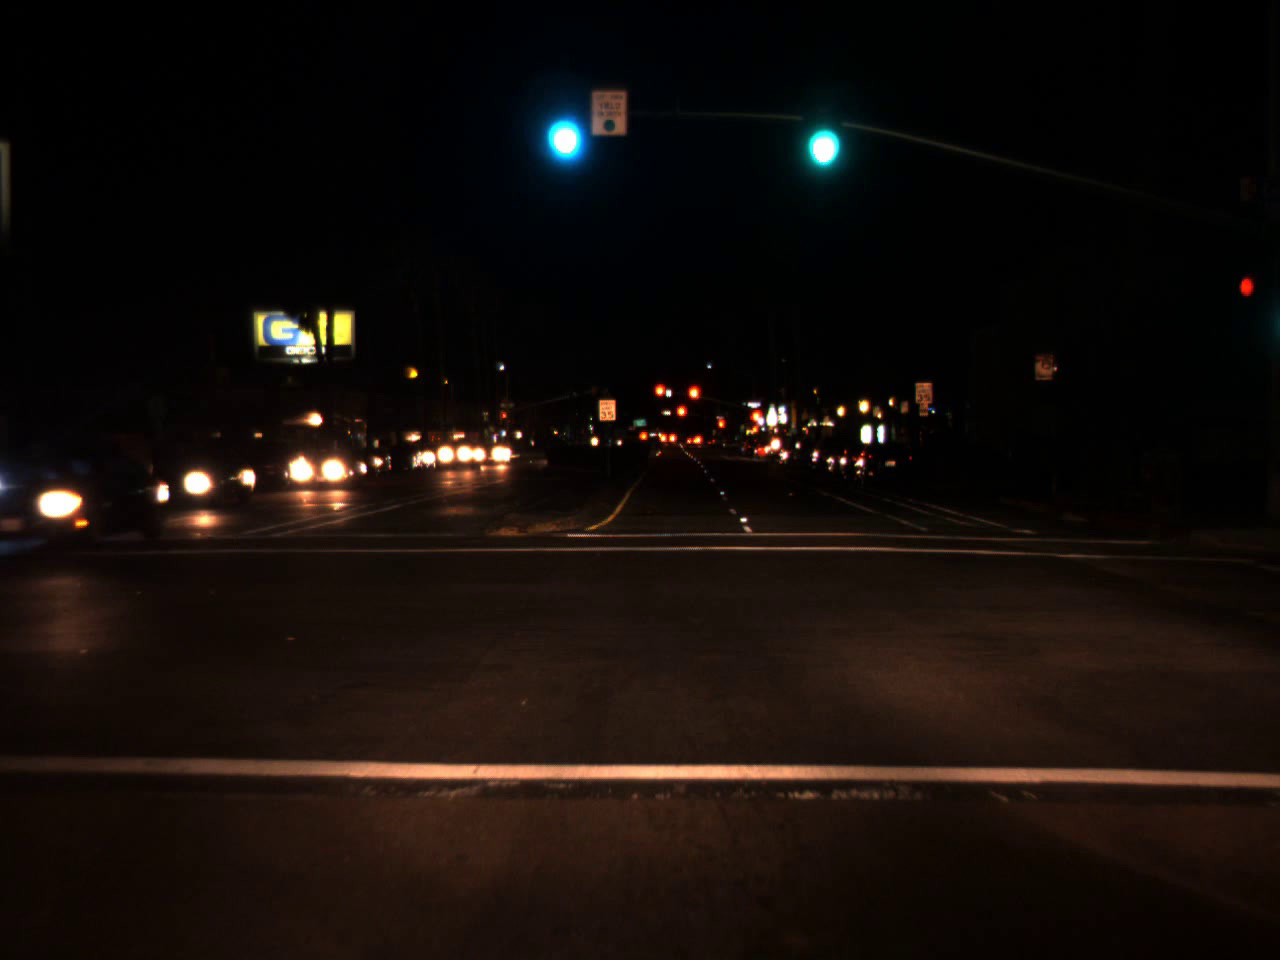go: (797, 91, 842, 178), (543, 97, 582, 163)
stop: (747, 407, 765, 439), (686, 384, 701, 413), (653, 382, 668, 411), (674, 403, 687, 430), (717, 418, 724, 439), (501, 413, 507, 423)
